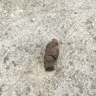Dog: (44, 39, 59, 71)
